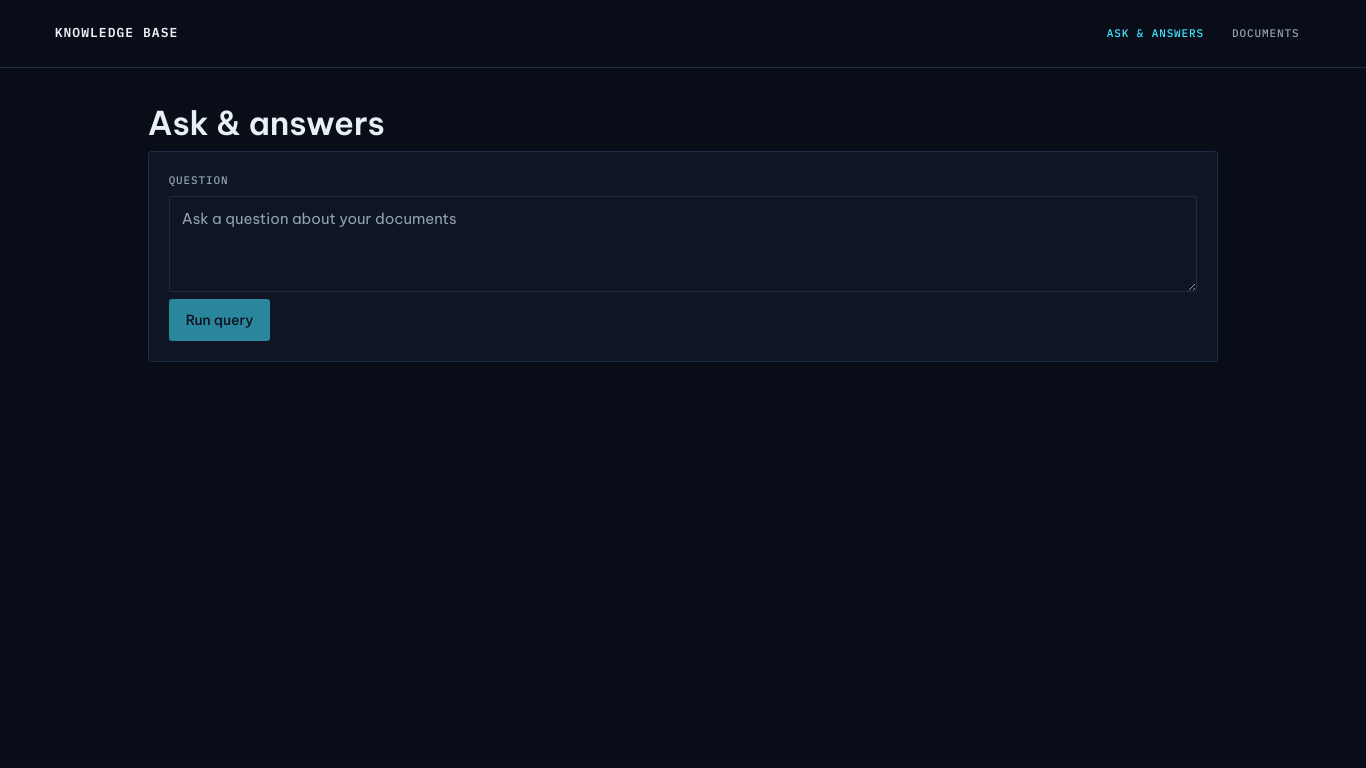
Scenario: App — query, answer, and evidence › renders a complete answer with confidence, completeness, and an openable citation
Type "How much notice?" into the text box labelled "Question" at (683, 244), box [169,196,1197,292]
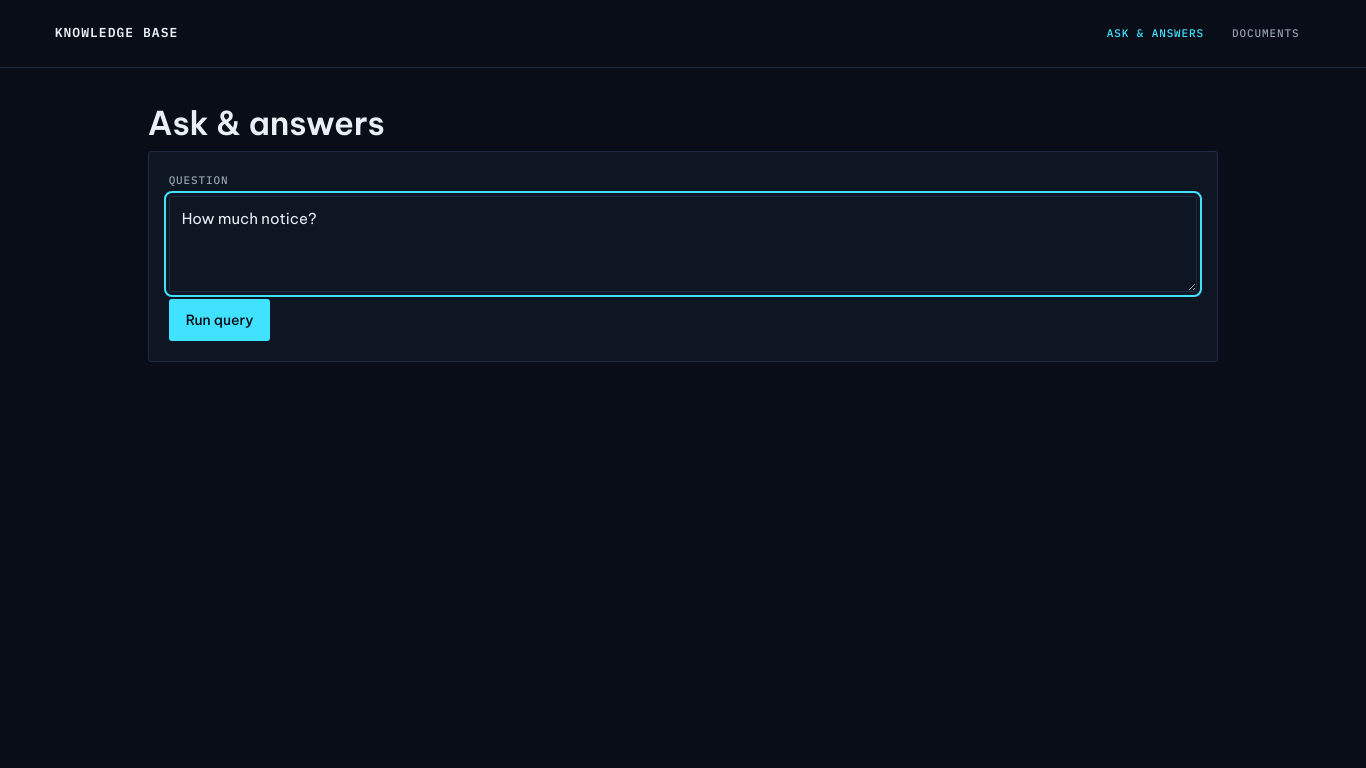
Click the button "Run query" at (220, 320), box [169,299,270,341]
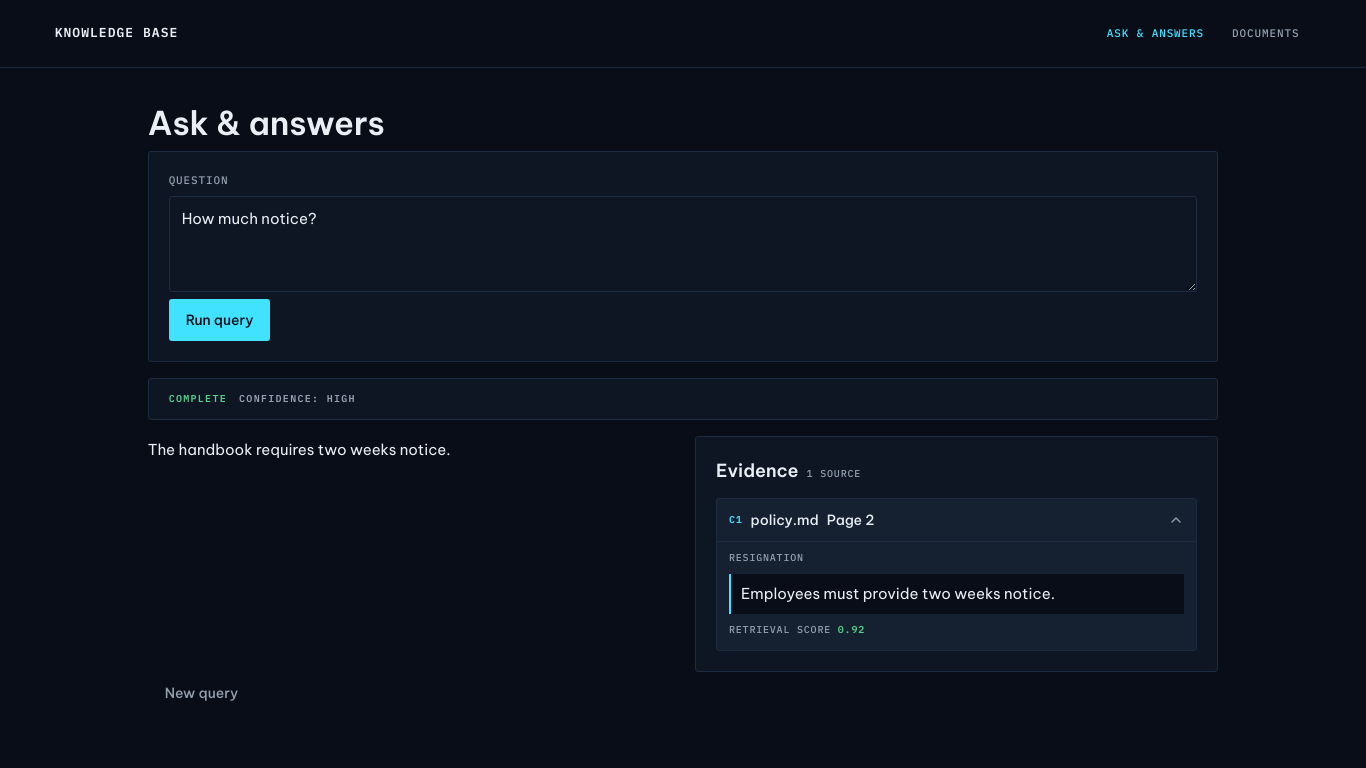
Expected: the text "The handbook requires two weeks notice." is shown, [148,440,451,459]
Expected: the text "Complete" is shown, [169,391,227,407]
Expected: the text "HIGH" is shown, [327,392,356,405]
Click the button "C1 policy.md Page 2" at (785, 520), box [717,499,1196,541]
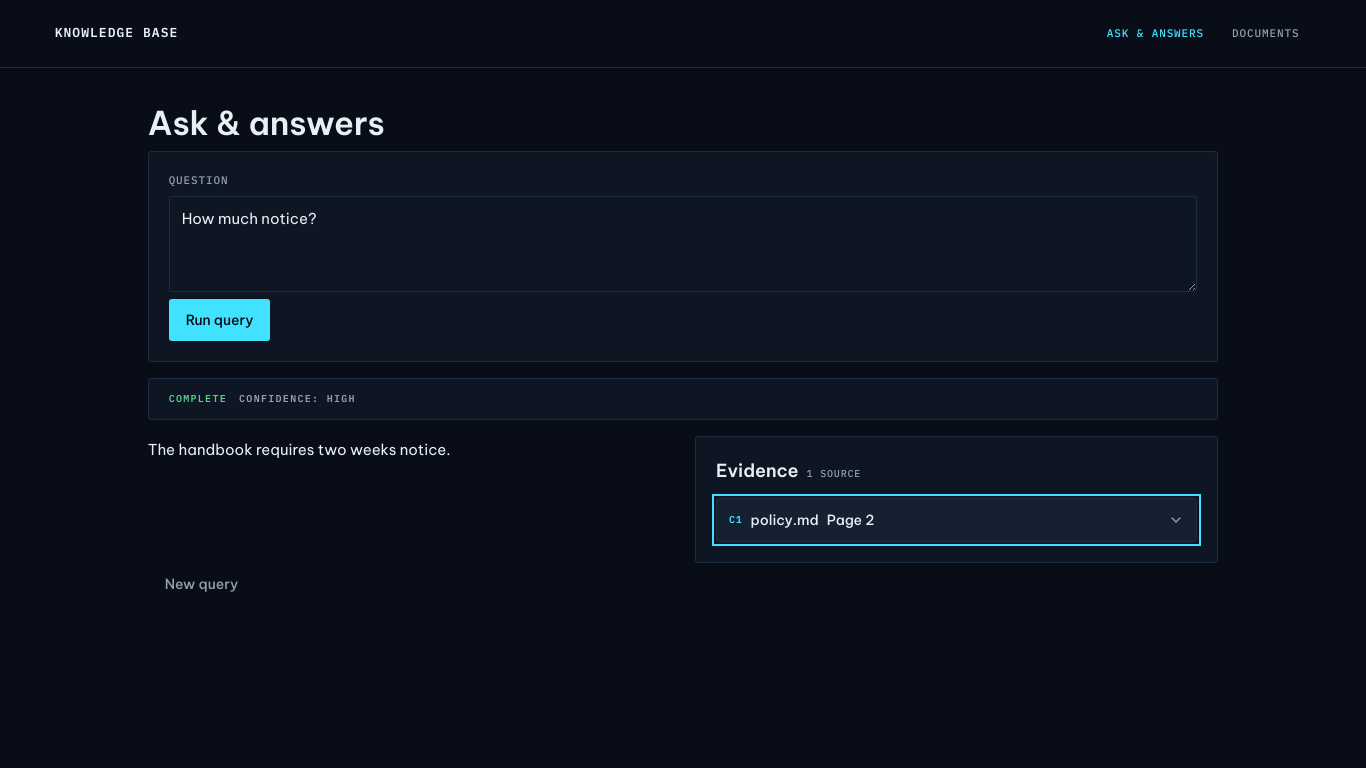
Expected: the button "C1 policy.md Page 2" is collapsed
Expected: the text "Employees must provide two weeks notice." is gone
Click the button "C1 policy.md Page 2" at (785, 520), box [717,499,1196,541]
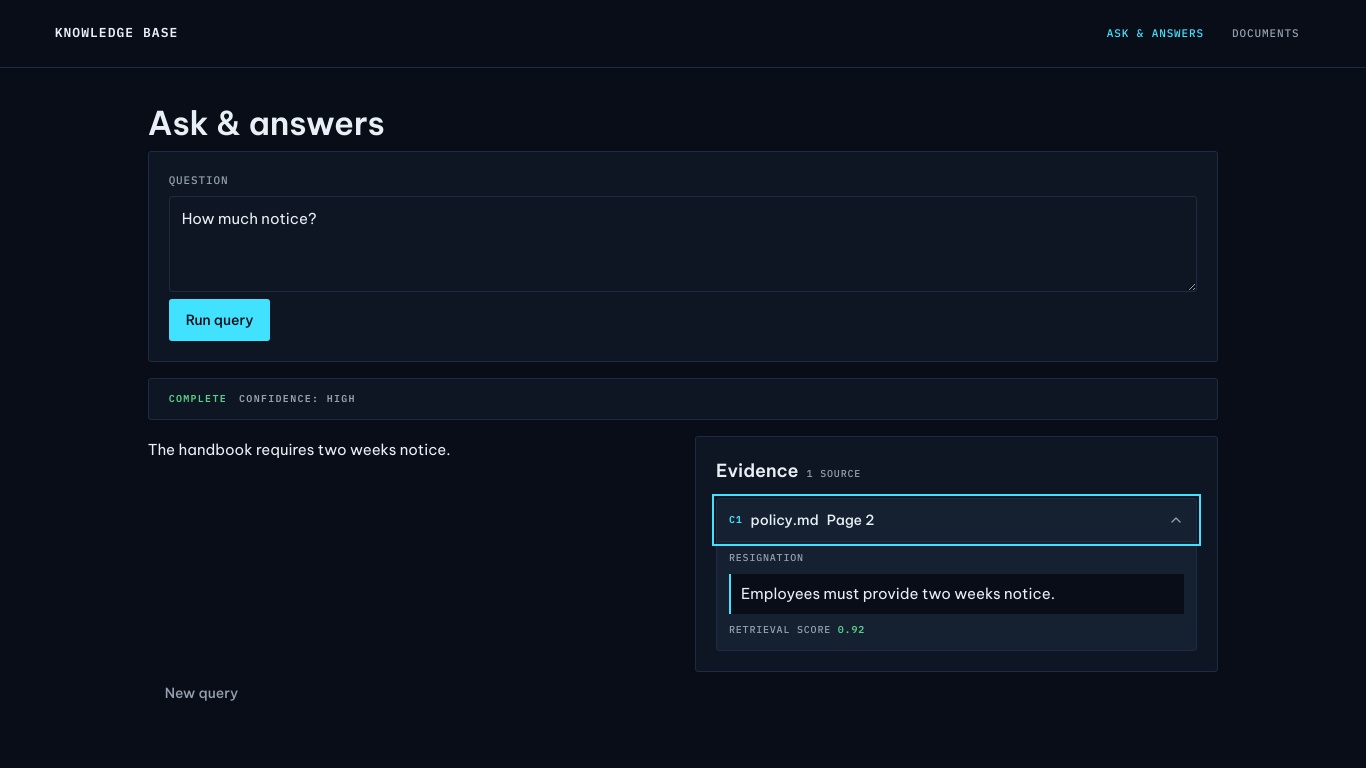
Expected: the text "Employees must provide two weeks notice." is shown, [729,574,1184,614]
